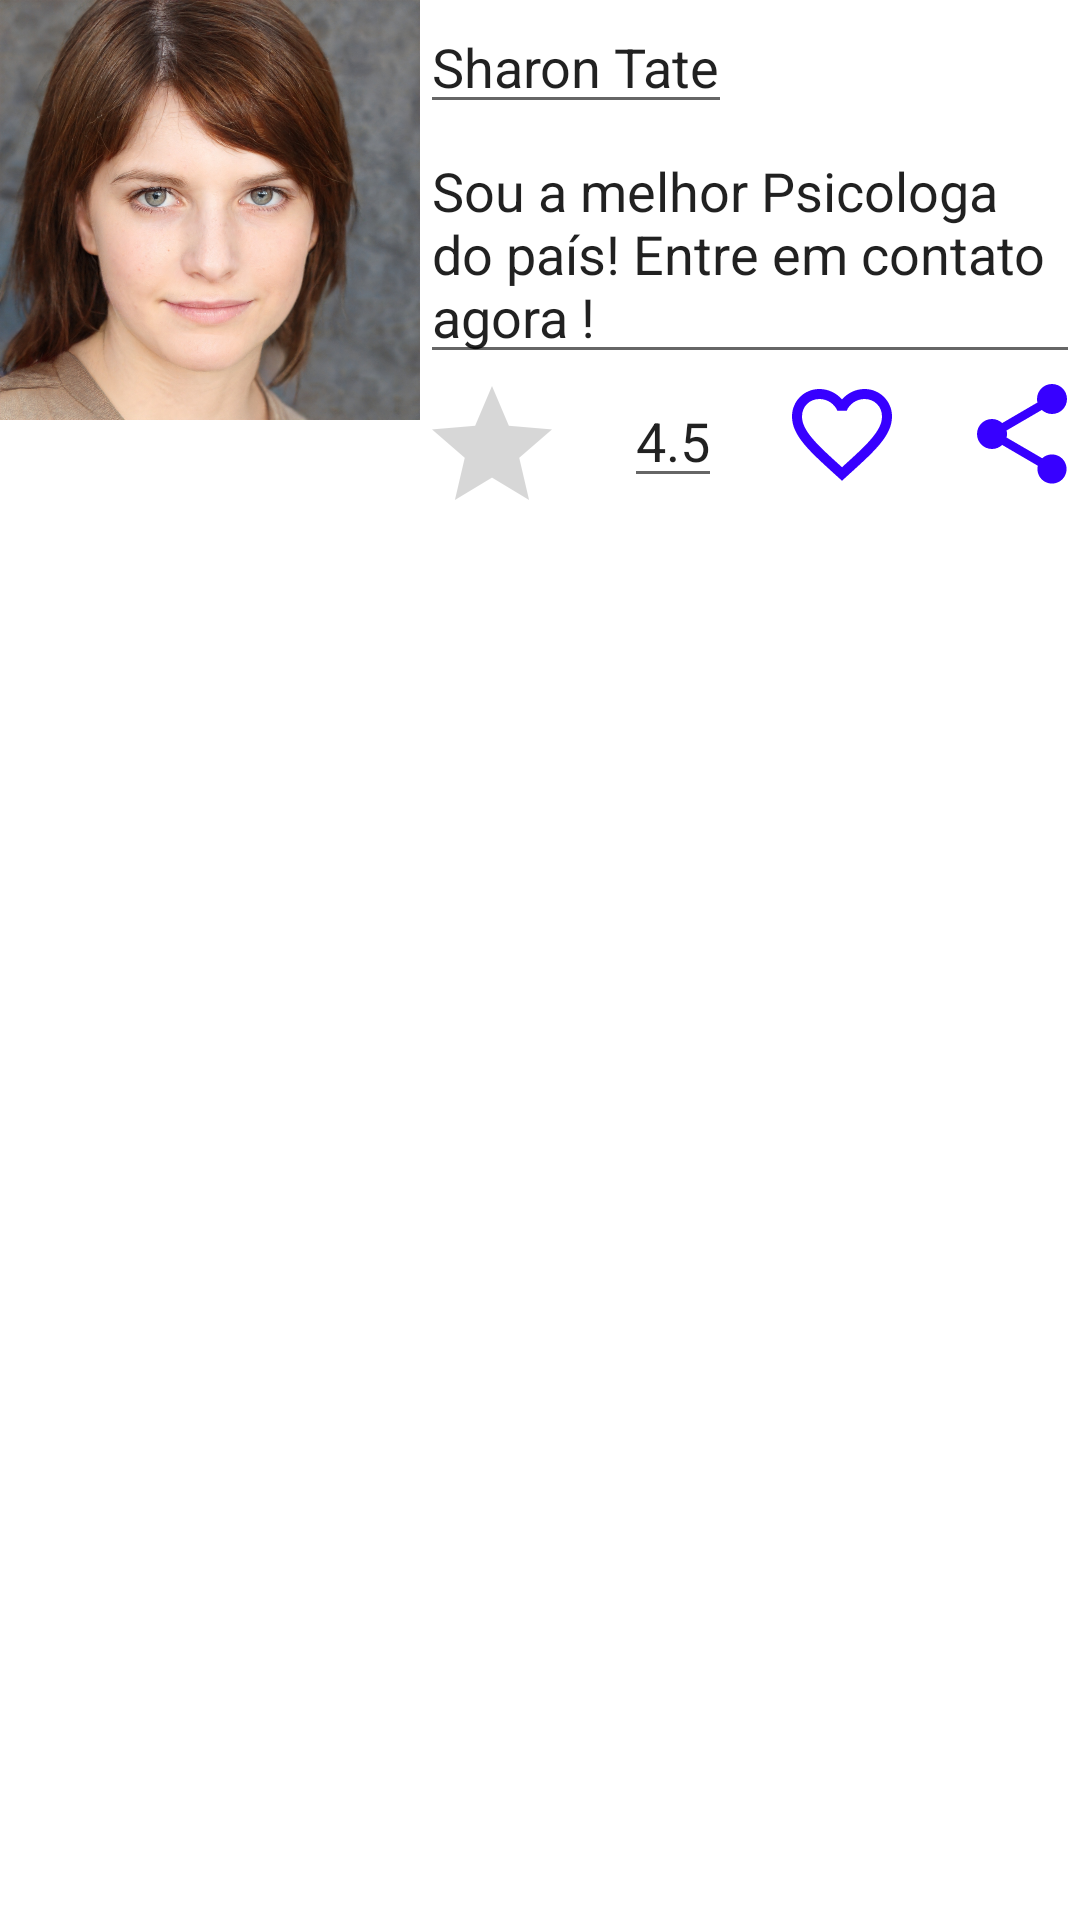

Locate icon controls on the screen. Image size 1080×1920, boxes as (x1, y1, x2, y2).
favorite border: (792, 389, 892, 481)
share: (977, 384, 1067, 484)
